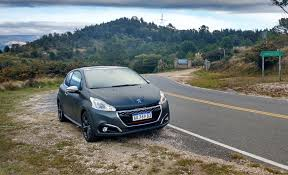car: (56, 66, 170, 138)
